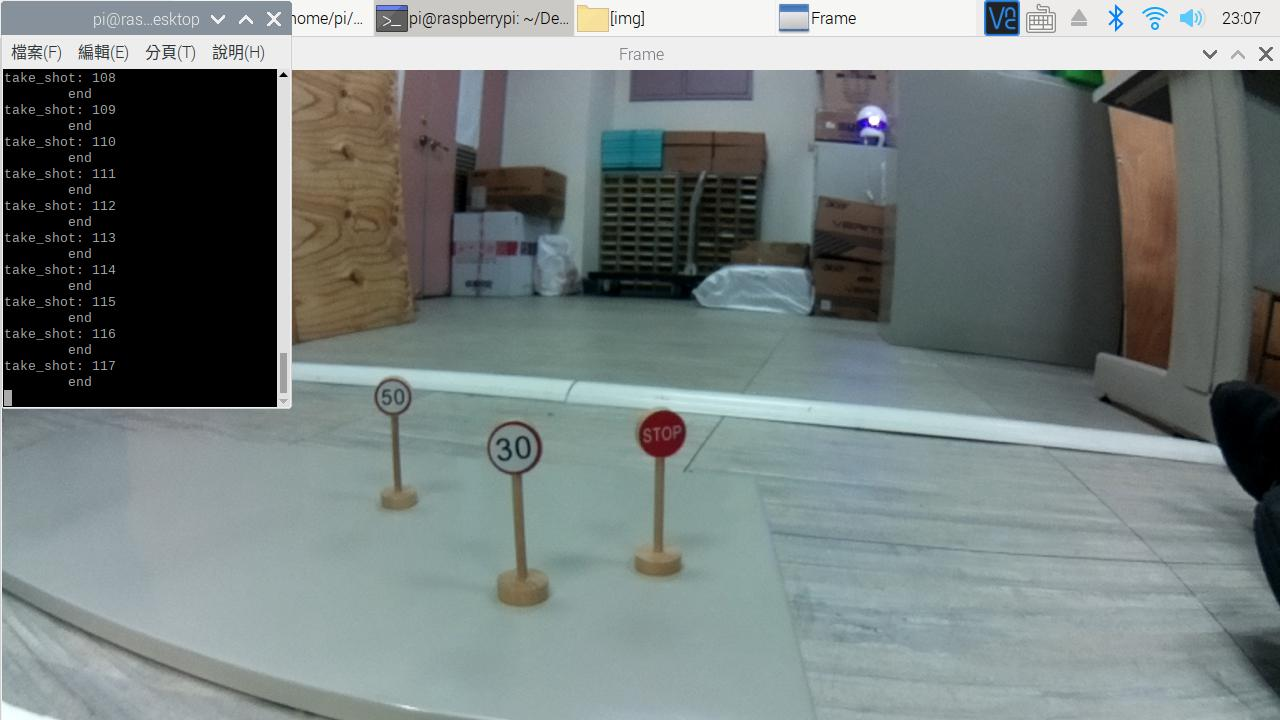Speed30: (478, 421, 564, 477)
Speed50: (372, 374, 421, 421)
Stop: (631, 403, 703, 468)
